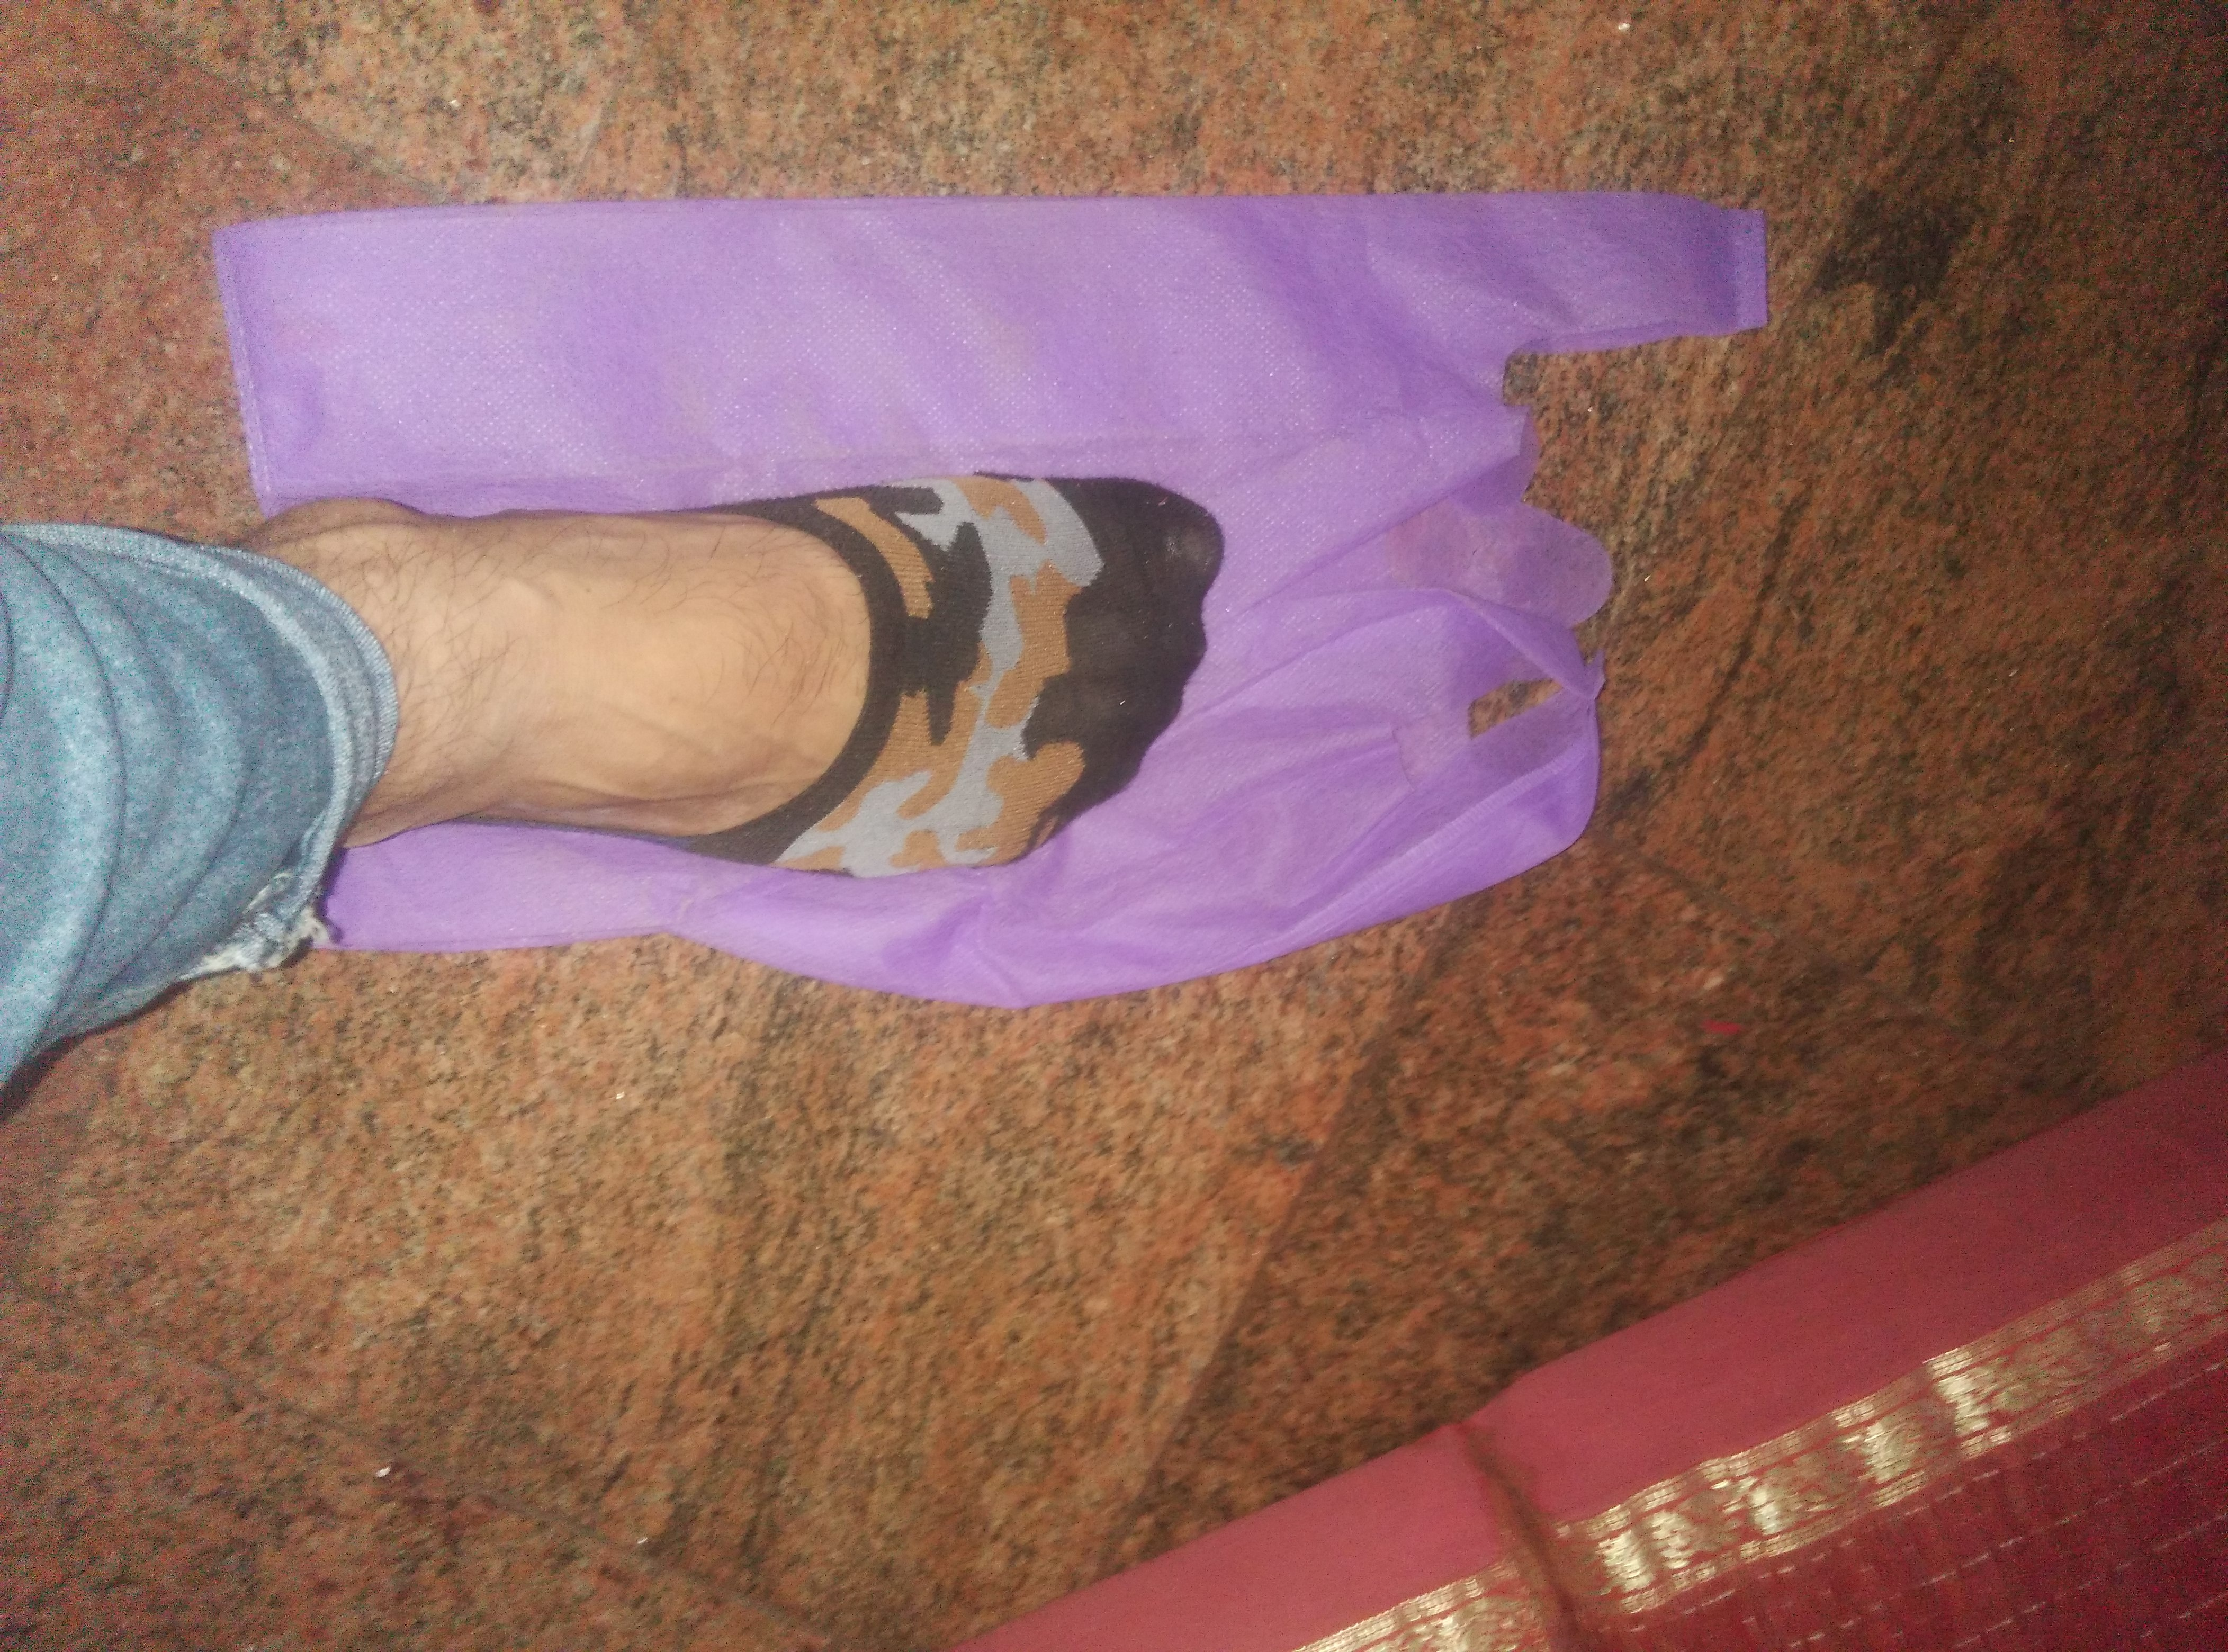feet: (156, 429, 1230, 909)
